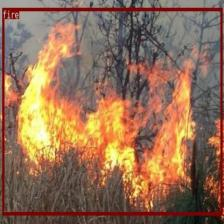fire: (2, 7, 222, 215)
